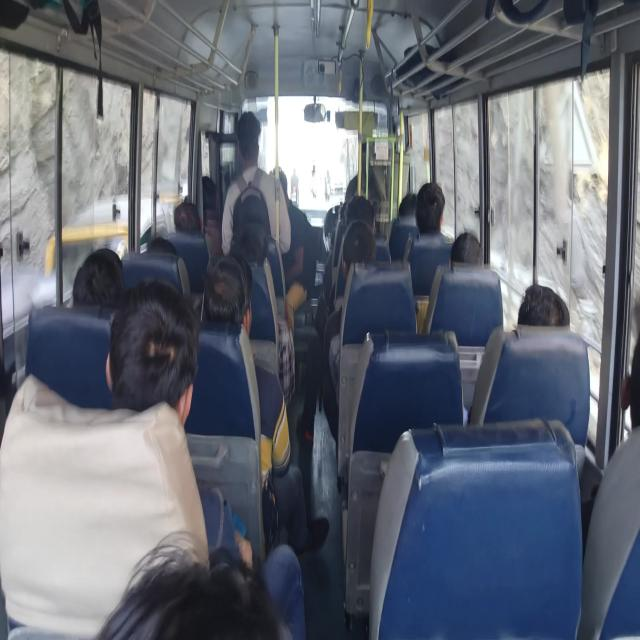person: (105, 277, 253, 568), (203, 254, 330, 554), (94, 530, 299, 639), (296, 194, 376, 442), (576, 333, 639, 638), (468, 283, 570, 423), (221, 110, 291, 263), (418, 230, 483, 334), (72, 247, 124, 308), (517, 283, 570, 326), (415, 181, 446, 237), (449, 231, 484, 266), (173, 201, 201, 233)
